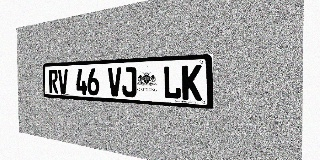4: (76, 68, 87, 95)
6: (87, 68, 99, 95)
J: (122, 67, 136, 97)
K: (182, 65, 202, 101)
L: (163, 65, 181, 100)
R: (49, 69, 58, 93)
V: (108, 67, 122, 97), (58, 69, 68, 94)
